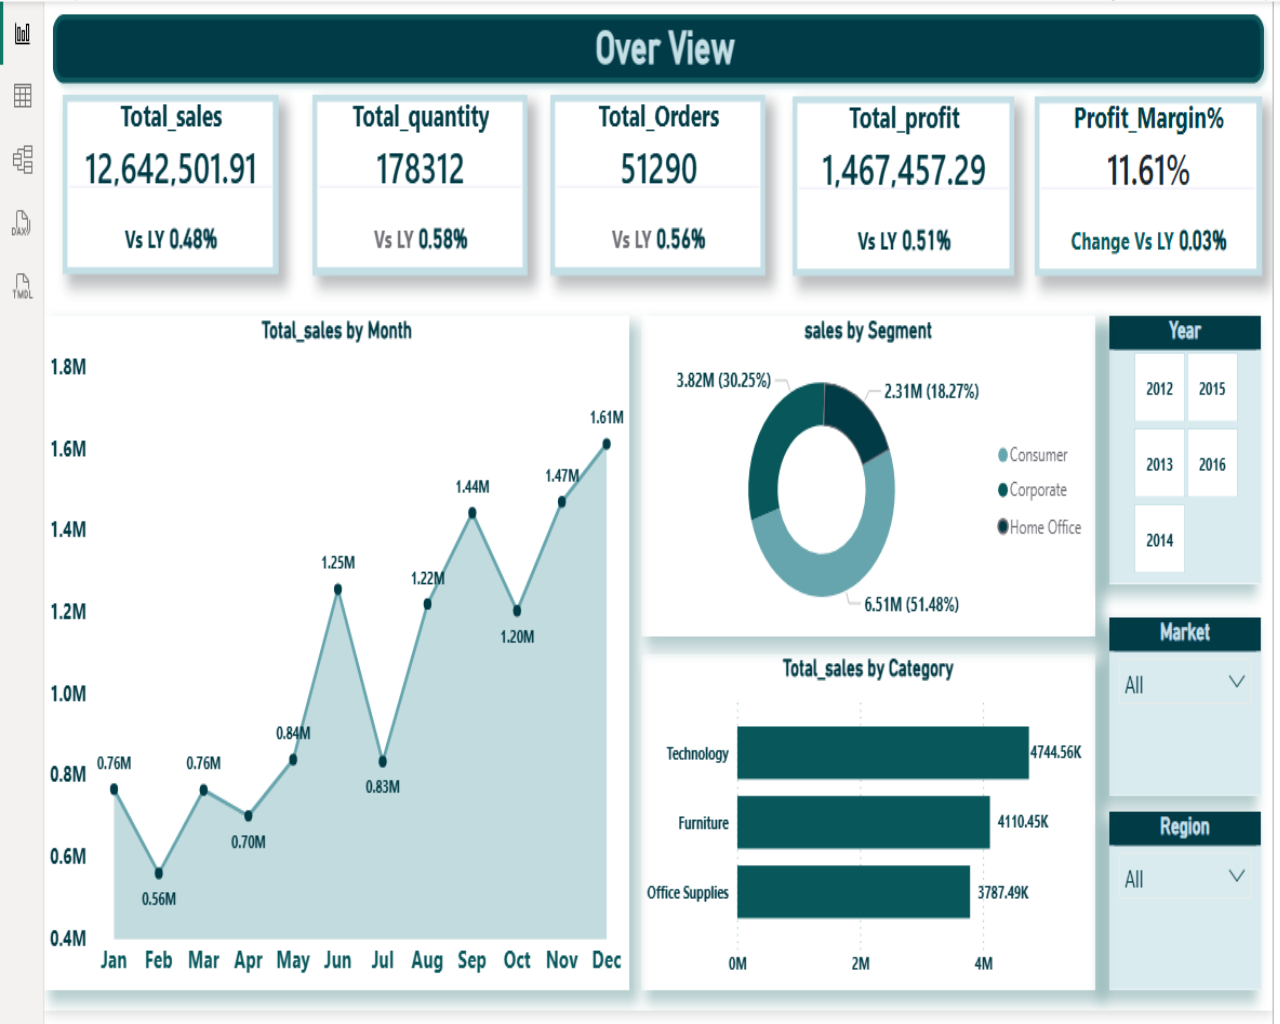

The dashboard page shown, as its layout file describes it:
{"tool":"powerbi","page":{"name":"OVerView","canvas":[1280,720],"ordinal":0},"visuals":[{"type":"shape","box":[0,0,1280,67.1],"z":0},{"type":"textbox","title":"Over View","box":[414,13.6,467.1,40.9],"z":1000},{"type":"slicer","title":"Year","fields":{"Values":["Date_Dim.Year"]},"box":[1110.1,224.5,157.7,191.1],"z":2000},{"type":"cardVisual","fields":{"Data":["Measure1_Total.Total_profit"]},"box":[779.6,67.2,231.4,128],"z":3000},{"type":"cardVisual","fields":{"Data":["Measure1_Total.Total_sales"]},"box":[19,66.5,224.7,128.2],"z":4000},{"type":"cardVisual","fields":{"Data":["Measure1_Total.Total_quantity"]},"box":[279.1,66.7,224.5,128.9],"z":5000},{"type":"cardVisual","fields":{"Data":["Measure1_Total.Total_Orders"]},"box":[527.8,66.7,224.5,128.9],"z":6000},{"type":"cardVisual","fields":{"Data":["Measure1_Total.Profit_Margen%"]},"box":[1031.8,67.2,236.6,128],"z":7000},{"type":"lineChart","title":"Total_sales by Month","fields":{"Y":["Measure1_Total.Total_sales"],"Category":["Date_Dim.Month_Name"]},"box":[0,224.5,609.7,480.8],"z":8000},{"type":"barChart","fields":{"Y":["Measure1_Total.Total_sales"],"Category":["product_Dim.Category"]},"box":[621.8,465.6,473.2,239.6],"z":9000},{"type":"donutChart","title":"sales by Segment","fields":{"Category":["Customer_Dim.Segment"],"Y":["Measure1_Total.Total_sales"]},"box":[621.8,224.5,473.2,229],"z":10000},{"type":"slicer","title":"Market","fields":{"Values":["Location_Dim.Market"]},"box":[1110.1,439.8,157.7,127.4],"z":11000},{"type":"slicer","title":"Region","fields":{"Values":["Location_Dim.Region"]},"box":[1110.1,577.8,157.7,127.4],"z":12000}]}

Visuals, with their boxes on the page's 1280x720 design canvas (x1, y1, x2, y2). These are canvas units, not pixel positions in the 1280x1024 screenshot, which may show the page scaled, cropped or inside an application window:
shape: 0,0,1280,67
"Over View" textbox: 414,14,881,54
"Year" slicer: 1110,224,1268,416
cardVisual - Measure1_Total.Total_profit: 780,67,1011,195
cardVisual - Measure1_Total.Total_sales: 19,66,244,195
cardVisual - Measure1_Total.Total_quantity: 279,67,504,196
cardVisual - Measure1_Total.Total_Orders: 528,67,752,196
cardVisual - Measure1_Total.Profit_Margen%: 1032,67,1268,195
"Total_sales by Month" lineChart: 0,224,610,705
barChart - Measure1_Total.Total_sales x product_Dim.Category: 622,466,1095,705
"sales by Segment" donutChart: 622,224,1095,454
"Market" slicer: 1110,440,1268,567
"Region" slicer: 1110,578,1268,705
